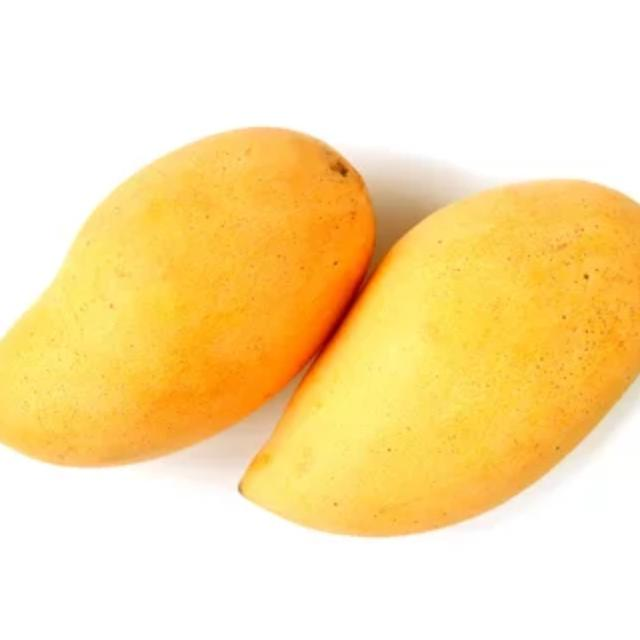mango: (229, 177, 640, 536), (0, 122, 378, 470)
